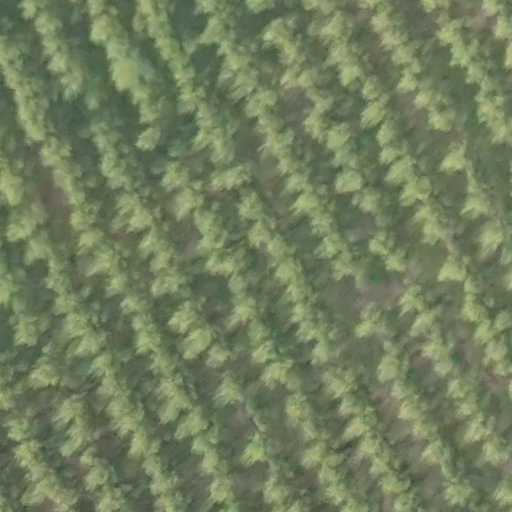eucalipto: (354, 299, 404, 345), (1, 200, 50, 244), (367, 225, 412, 269), (286, 302, 339, 336), (415, 202, 454, 243), (114, 51, 154, 90), (424, 336, 464, 374), (171, 296, 212, 331), (212, 372, 249, 409), (298, 186, 335, 222), (258, 129, 299, 161), (80, 455, 119, 488), (11, 313, 51, 345), (173, 185, 209, 220), (16, 443, 51, 479), (182, 323, 219, 357), (244, 432, 281, 466), (315, 230, 350, 265), (201, 16, 235, 52), (158, 388, 198, 418), (304, 442, 344, 472), (322, 12, 359, 44), (63, 203, 101, 234), (42, 258, 75, 293), (423, 437, 459, 469), (331, 164, 369, 194), (127, 427, 162, 459), (397, 281, 433, 312), (379, 344, 409, 381), (402, 173, 436, 205), (65, 419, 100, 450), (90, 14, 125, 45), (435, 252, 471, 282), (415, 84, 451, 114), (48, 50, 84, 80), (462, 190, 499, 219), (175, 410, 212, 439), (323, 366, 360, 395), (241, 86, 278, 115), (441, 142, 473, 175), (1, 160, 25, 204), (195, 448, 231, 477), (215, 160, 251, 189), (263, 21, 300, 49), (462, 414, 494, 446), (312, 336, 344, 368), (150, 243, 182, 275), (40, 134, 73, 165), (381, 465, 416, 494), (91, 247, 123, 278), (401, 392, 433, 423), (248, 219, 281, 249), (58, 398, 94, 425), (451, 39, 483, 68), (238, 190, 267, 222), (132, 329, 162, 359), (360, 98, 391, 127), (78, 330, 109, 358), (33, 10, 65, 37), (166, 160, 194, 190), (205, 475, 236, 502), (311, 92, 342, 119), (328, 123, 356, 152), (400, 64, 427, 94), (236, 301, 266, 328), (285, 392, 316, 418), (446, 375, 481, 398), (135, 125, 164, 152), (375, 117, 401, 147), (342, 56, 368, 86), (351, 409, 378, 437), (136, 457, 172, 478), (360, 75, 386, 103), (122, 288, 151, 313), (288, 278, 312, 303)
